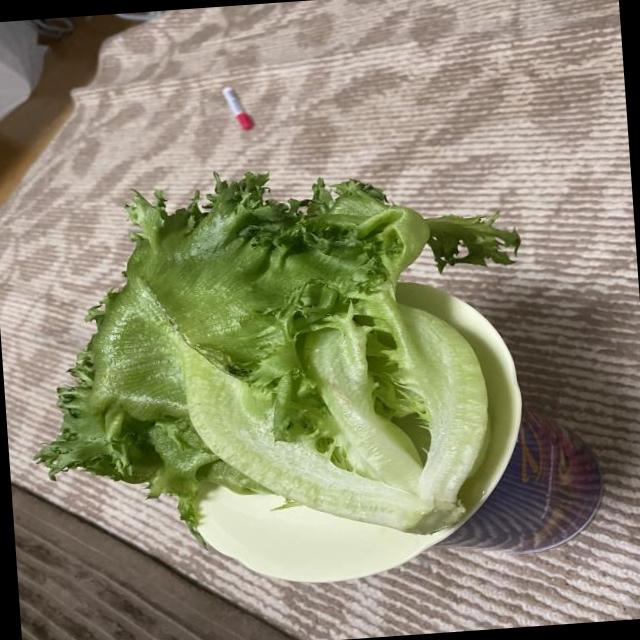Lettuce-Ready-to-Harvest: (39, 174, 518, 531)
